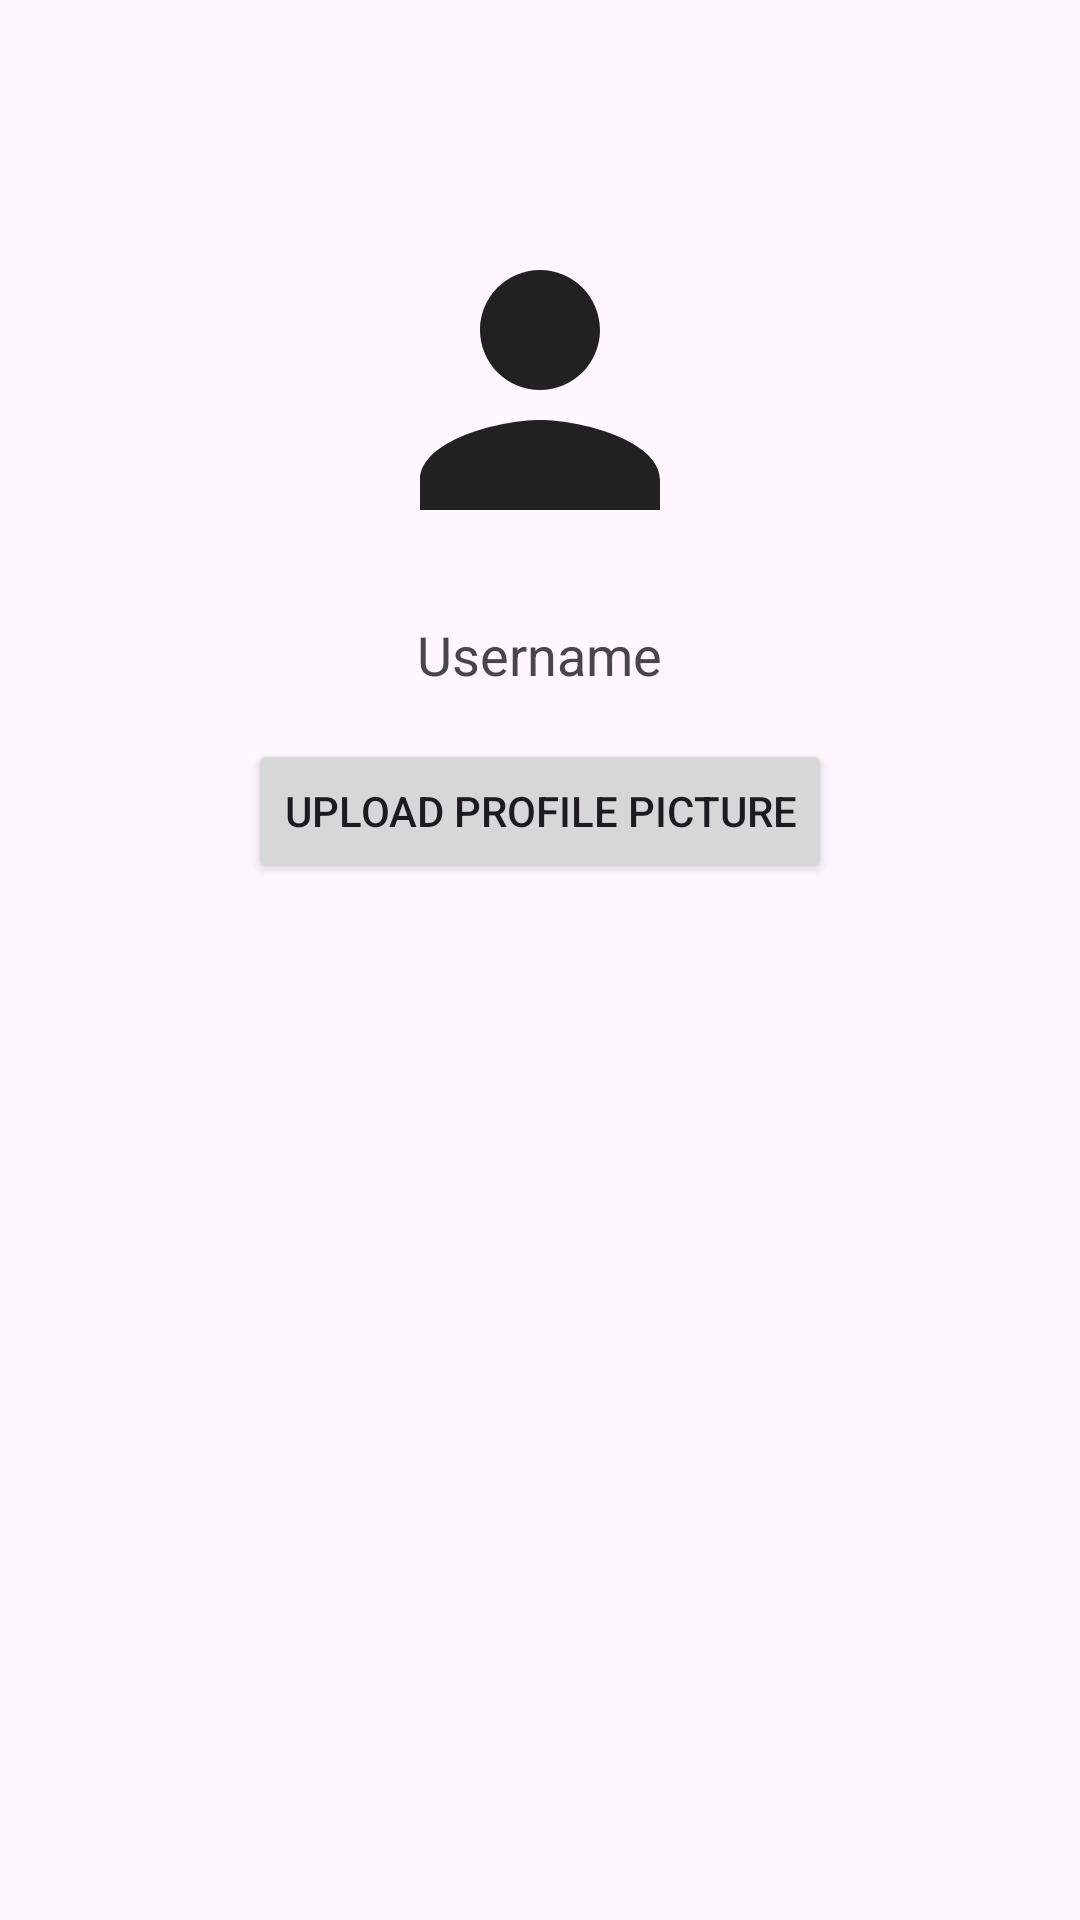

Point at icon controls on the screen. Image size 1080*1920, points as point (x, y).
Profile Image: point (540, 390)
